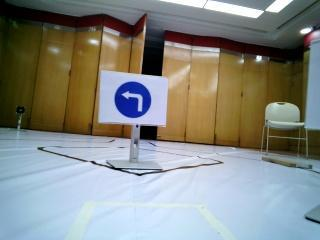left: (100, 70, 167, 128)
